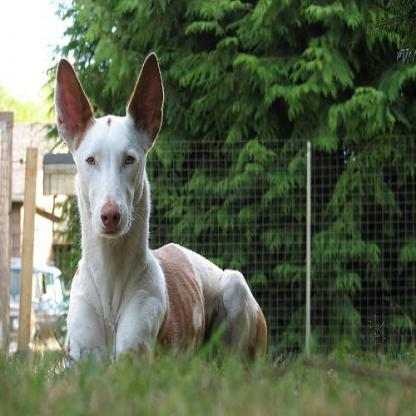dog: (48, 42, 274, 367)
